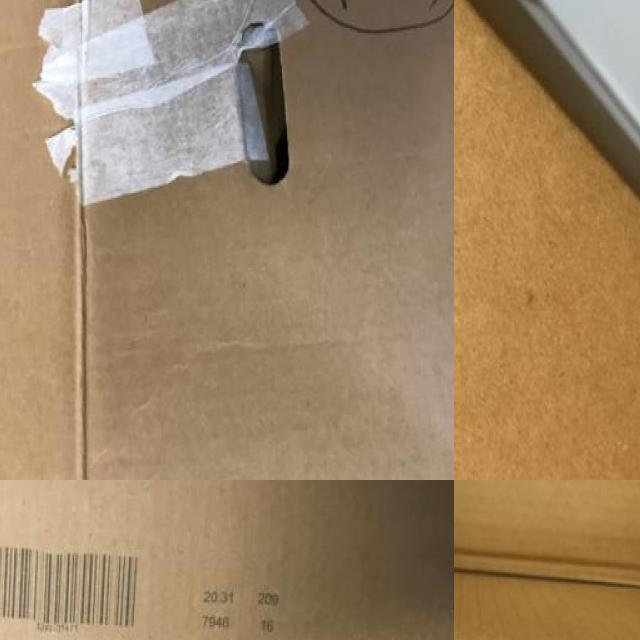class_name: (0, 0, 454, 480), (454, 0, 640, 480), (0, 480, 454, 640), (454, 480, 640, 640)
